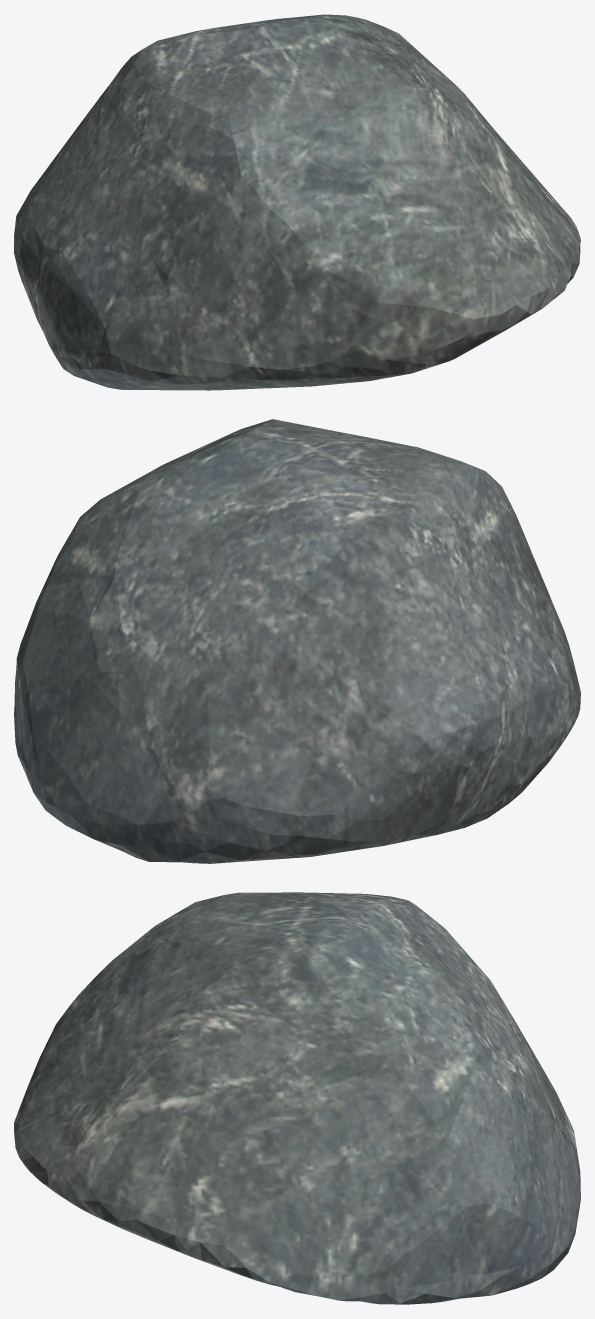
The model's file is rock2.fbx.
The picture shows the model from 3 angles, top to bottom: view 1: azimuth 30°, elevation 25°; view 2: azimuth 150°, elevation 25°; view 3: azimuth 270°, elevation 25°; orthographic projection. The views are drawn at different scales.
Parts seen in each view (by area): view 1: rock6:Mesh; view 2: rock6:Mesh; view 3: rock6:Mesh.
Boxes of the visible parts, x1,y1,x2,y2 form: rock6:Mesh: (14, 14, 580, 390); rock6:Mesh: (14, 419, 580, 863); rock6:Mesh: (14, 892, 580, 1304).
Size of the model in its own units: 1.78 by 1.14 by 1.8.
Materials: 1 (1 with a texture image).
